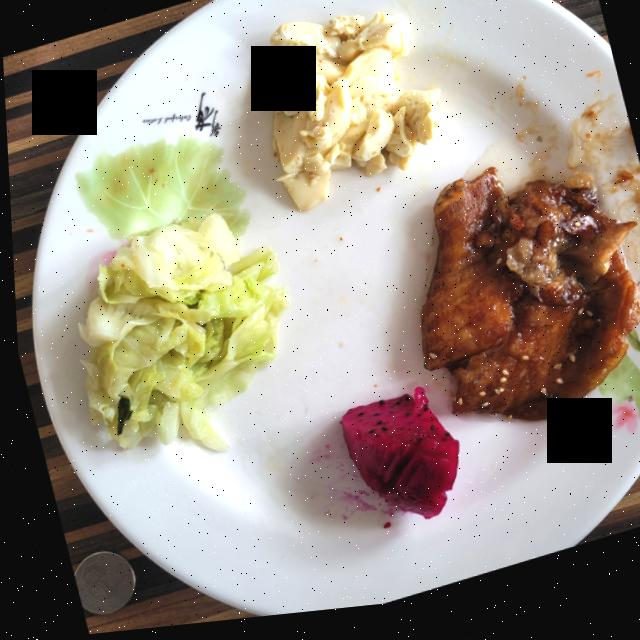Kabayaki sea bream fillet: (417, 178, 636, 431)
cabbage: (76, 217, 283, 454)
coin: (68, 551, 129, 615)
